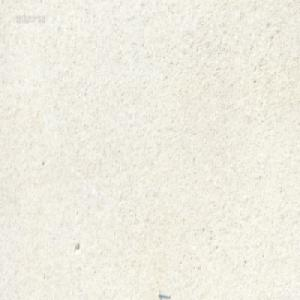Nail: (157, 289, 170, 297)
